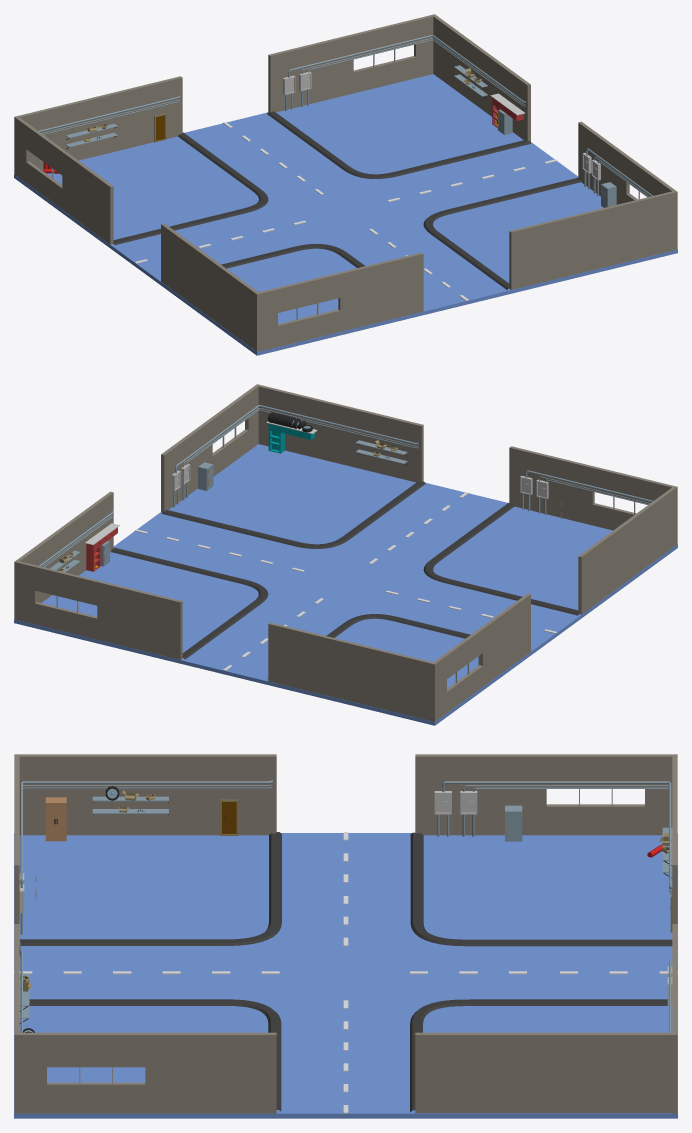
Rendered from level.fbx.
3 views of the same model, one above another, from view 1: azimuth 30°, elevation 25°; view 2: azimuth 150°, elevation 25°; view 3: azimuth 270°, elevation 25° (orthographic). The views are drawn at different scales.
Visible parts, largest first — view 1: pCube84; view 2: pCube84; view 3: pCube84.
Boxes of the visible parts, bbox=[...] form: pCube84: bbox=[14, 14, 677, 355]; pCube84: bbox=[14, 384, 677, 725]; pCube84: bbox=[14, 754, 677, 1118].
Bounding box in the file's own units: 36.67 × 5.09 × 36.67.
